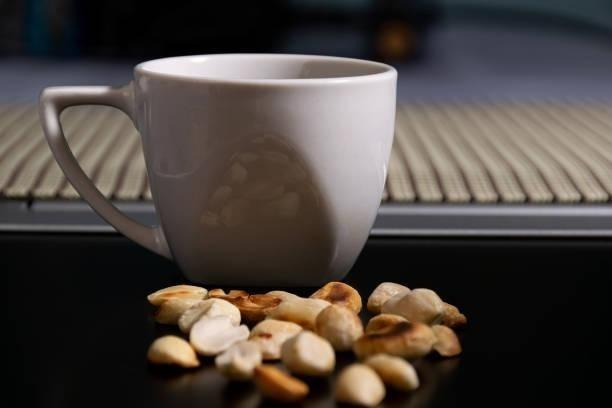cup-handle: (39, 51, 399, 292)
